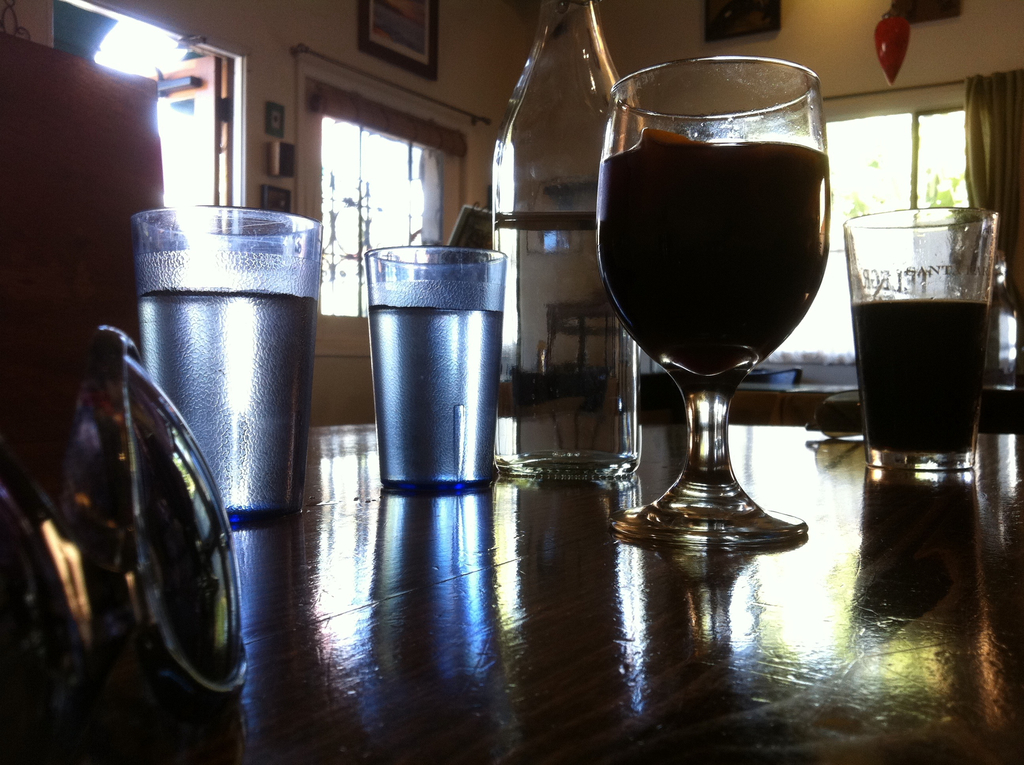Beer: (585, 46, 845, 542), (131, 200, 301, 522), (355, 238, 513, 510), (844, 202, 995, 473)
